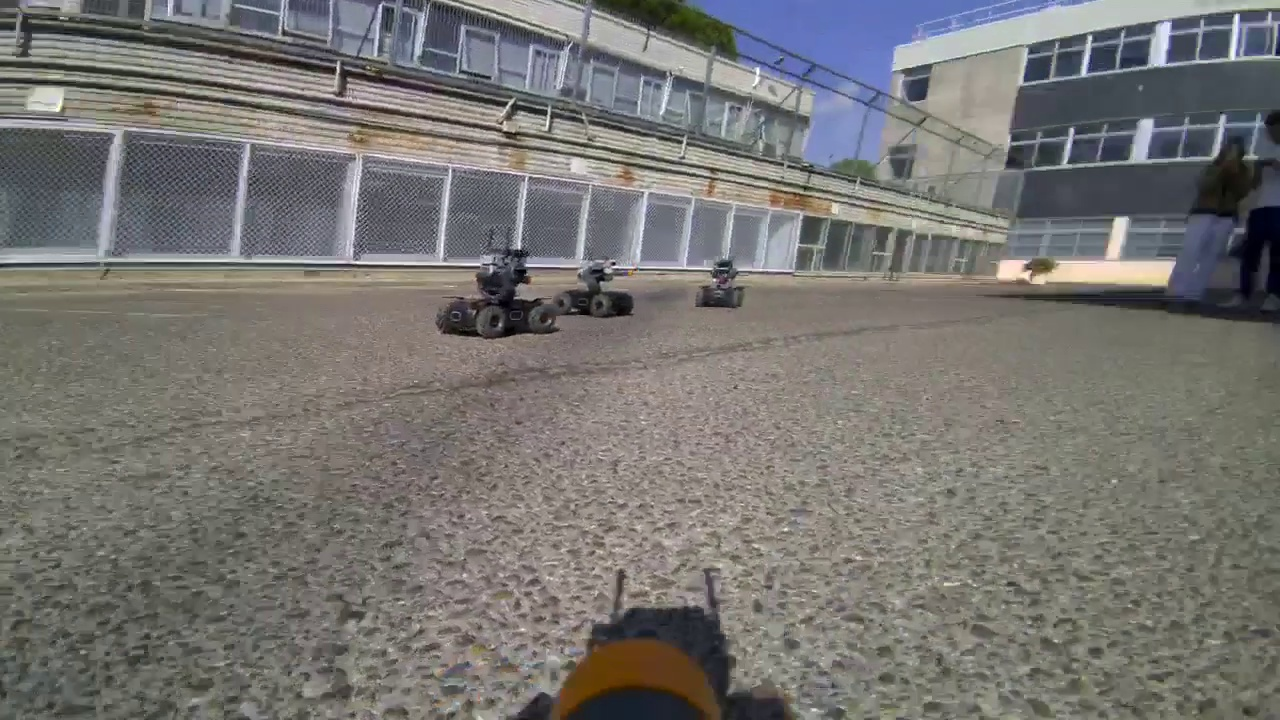robot: (422, 230, 557, 337), (546, 250, 632, 321), (691, 250, 748, 313)
